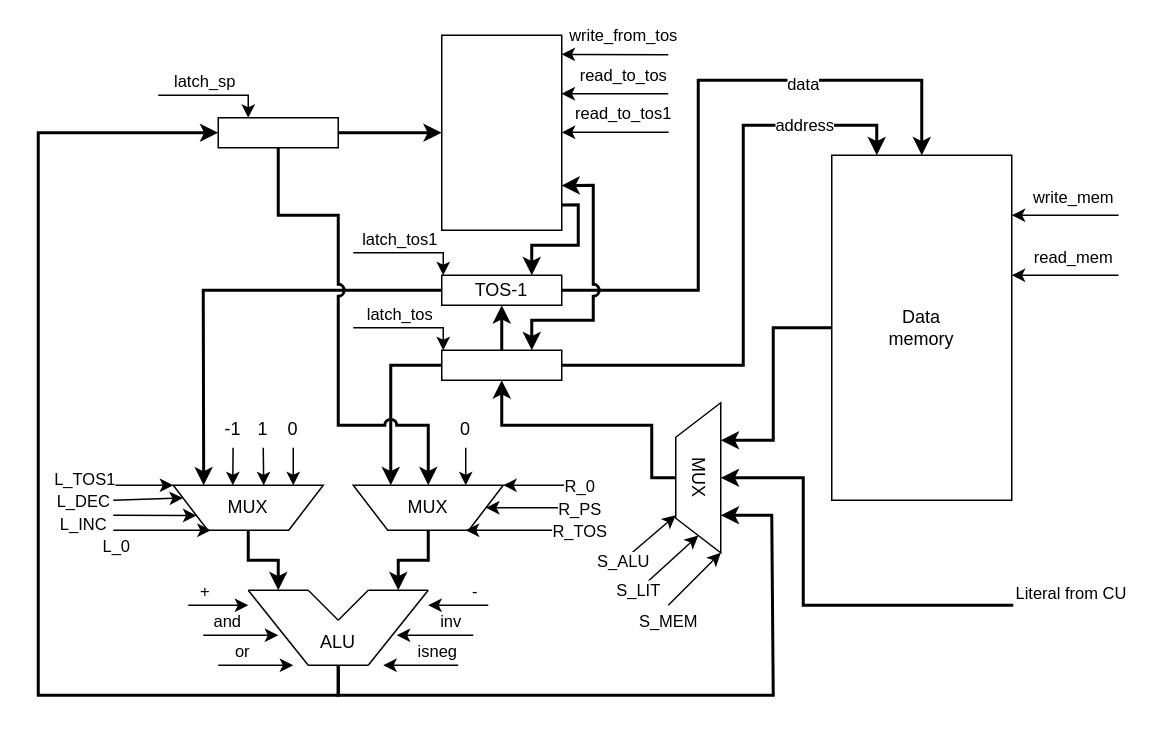
Some shapes in this 1157 by 735 pixel diagram are drawn without their labels. Here are the shapes that lost their labels. From the top down, the centre of each, then its label:
At pixel 277 132: "SP".
At pixel 501 132: "Stack".
At pixel 501 364: "TOS".
